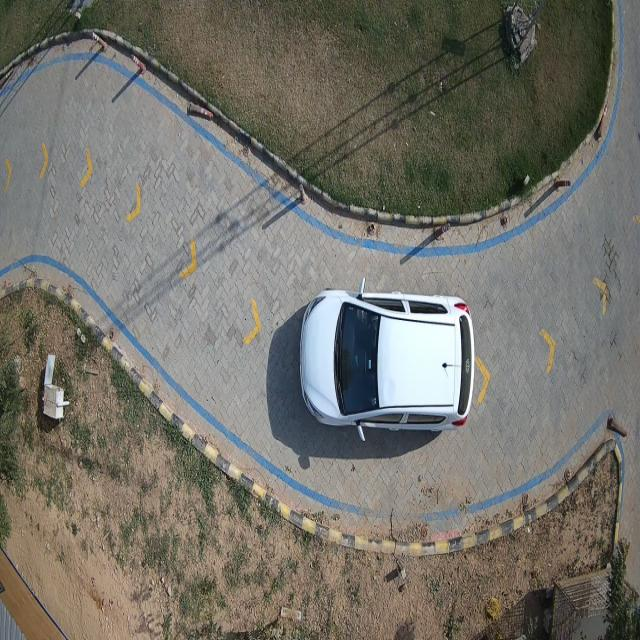car: (300, 282, 475, 440)
